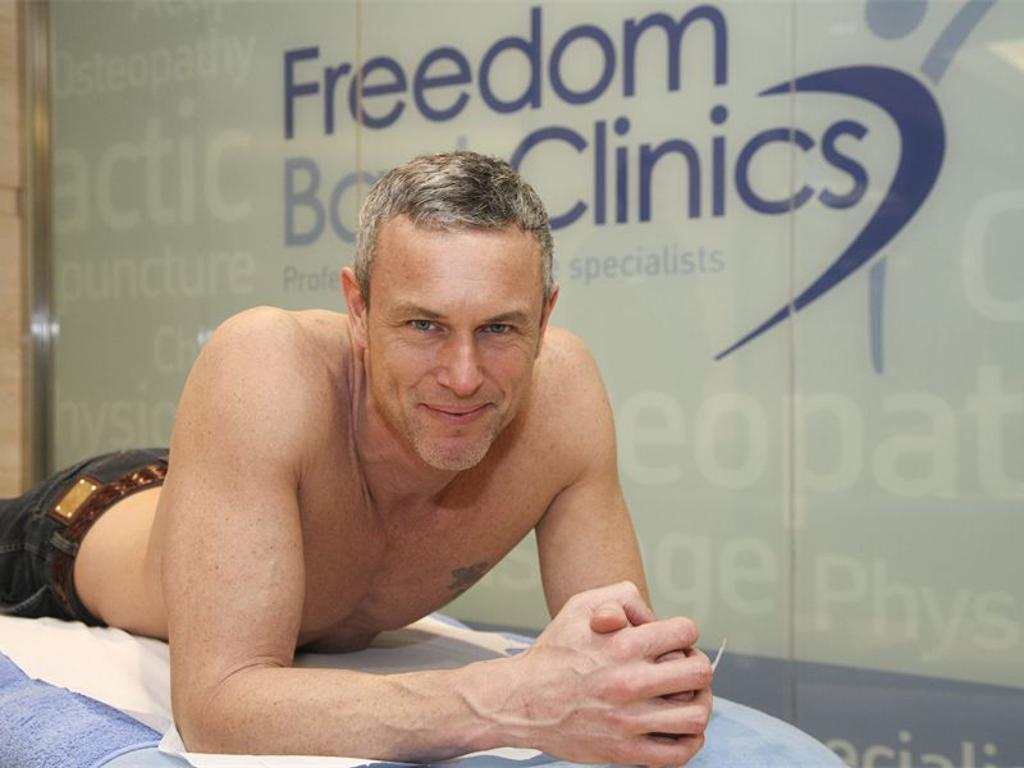face: (364, 234, 544, 472)
